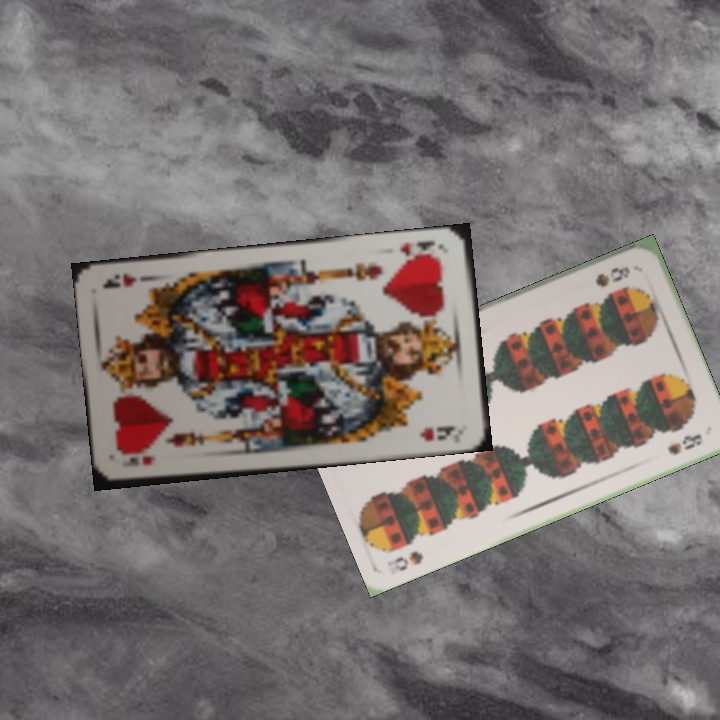HK: (396, 236, 446, 263), (119, 451, 157, 469)
S8: (383, 546, 426, 577), (591, 262, 633, 290)
